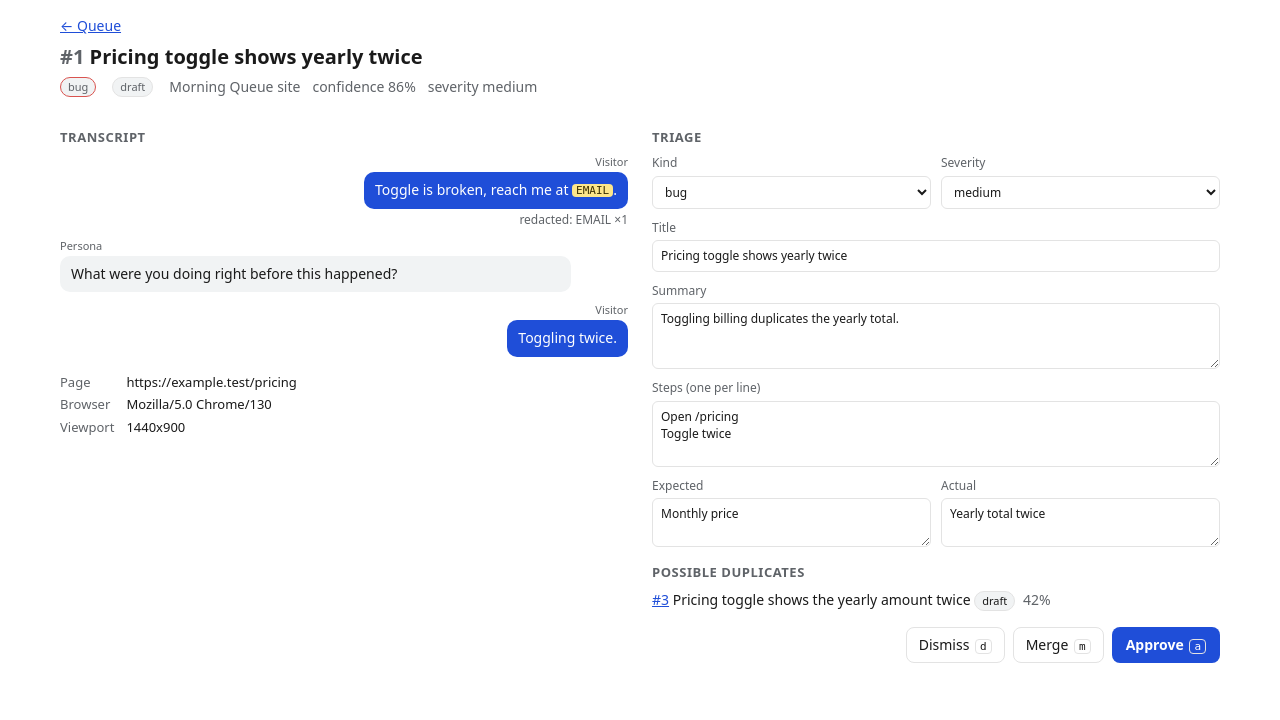
Test: TicketDetail › merges into a chosen duplicate
The width and height of the screenshot is (1280, 720).
Expected: the field labelled "Title" is shown, x1=652 y1=240 x2=1220 y2=272
Type keys "m"
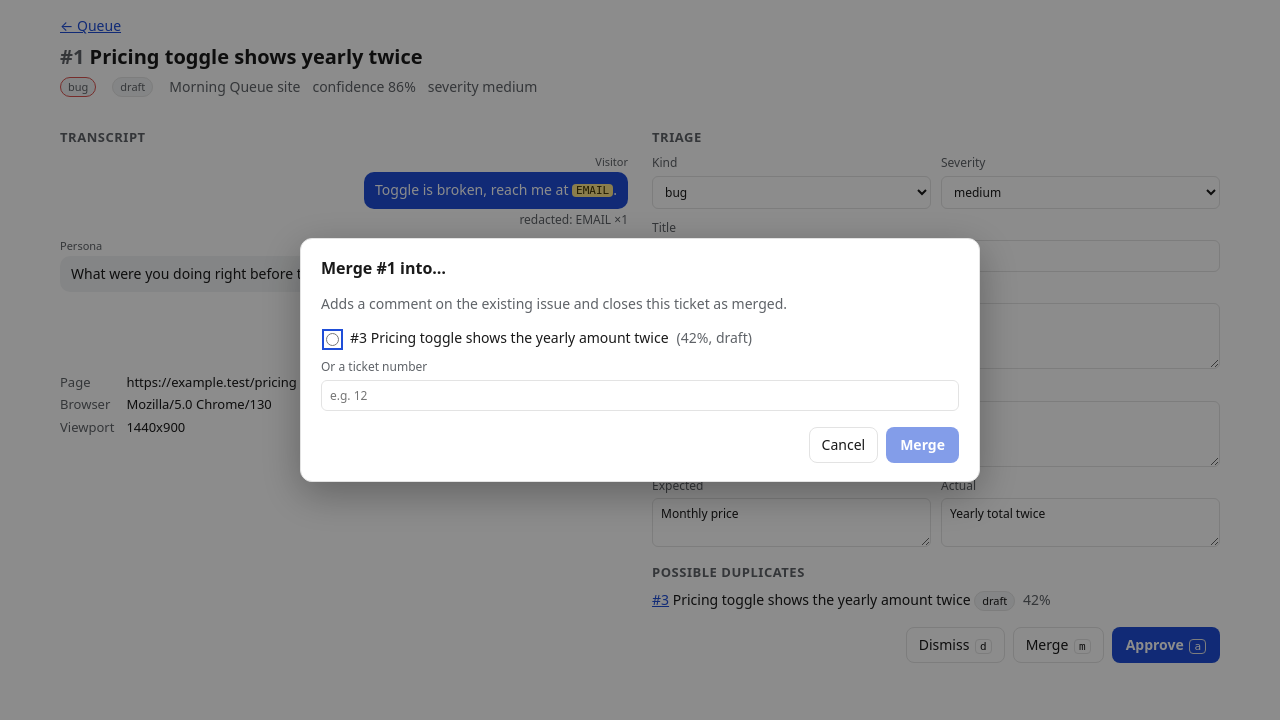
Expected: the button "Merge" is disabled, x1=886 y1=427 x2=959 y2=463
Click the radio button labelled "#3 Pricing toggle shows the yearly amount twice (42%, draft)" at (332, 340), box x1=326 y1=333 x2=339 y2=346
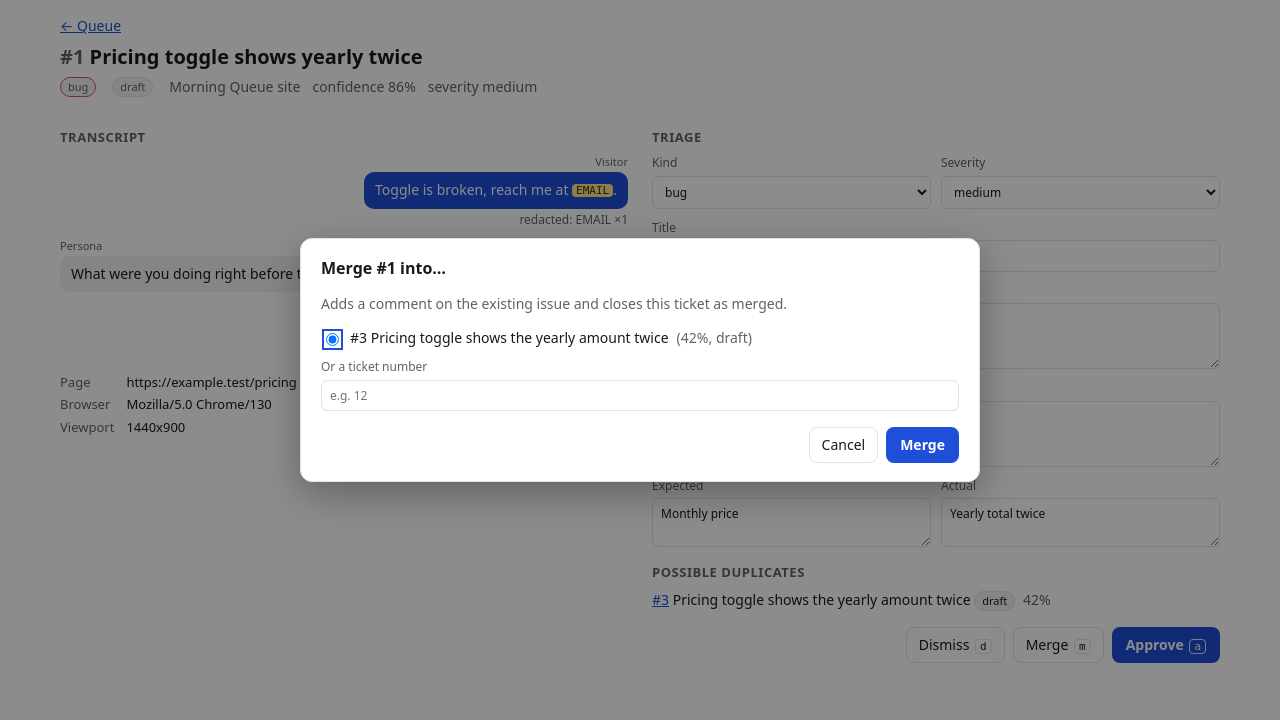
Click the button "Merge" at (923, 445), box x1=886 y1=427 x2=959 y2=463
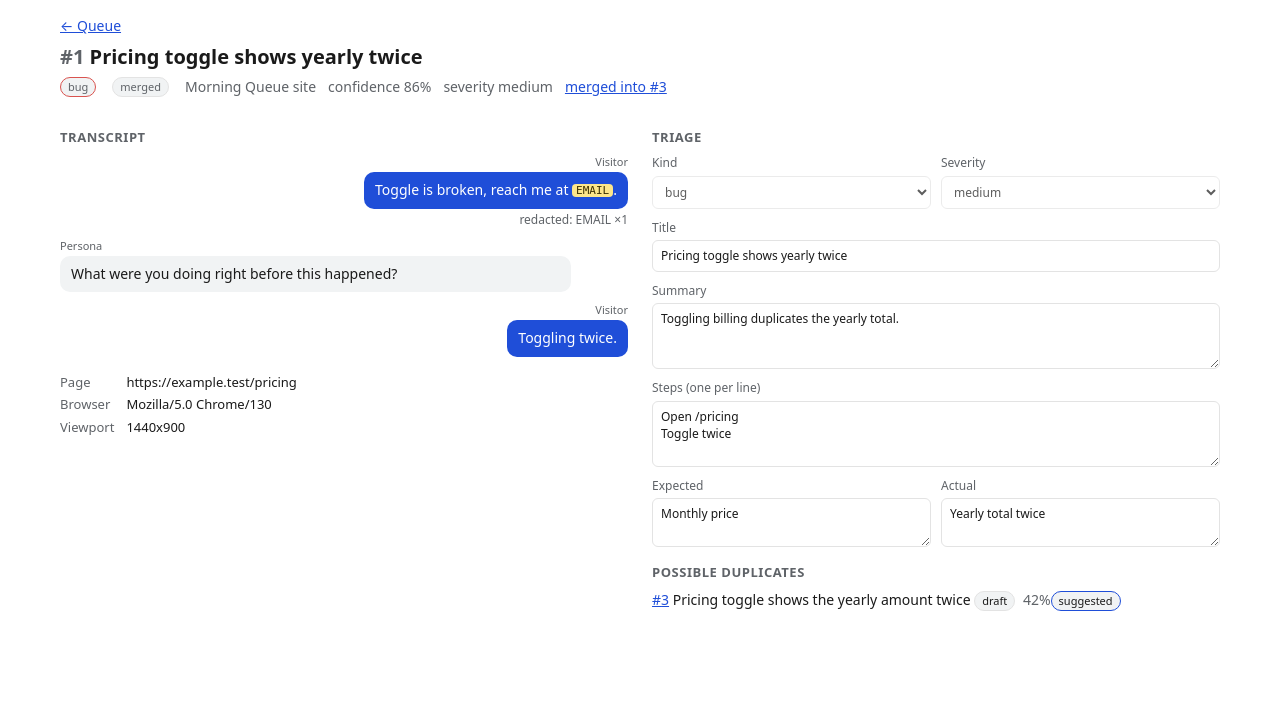
Expected: the text "merged" is shown, x1=112 y1=78 x2=169 y2=97
